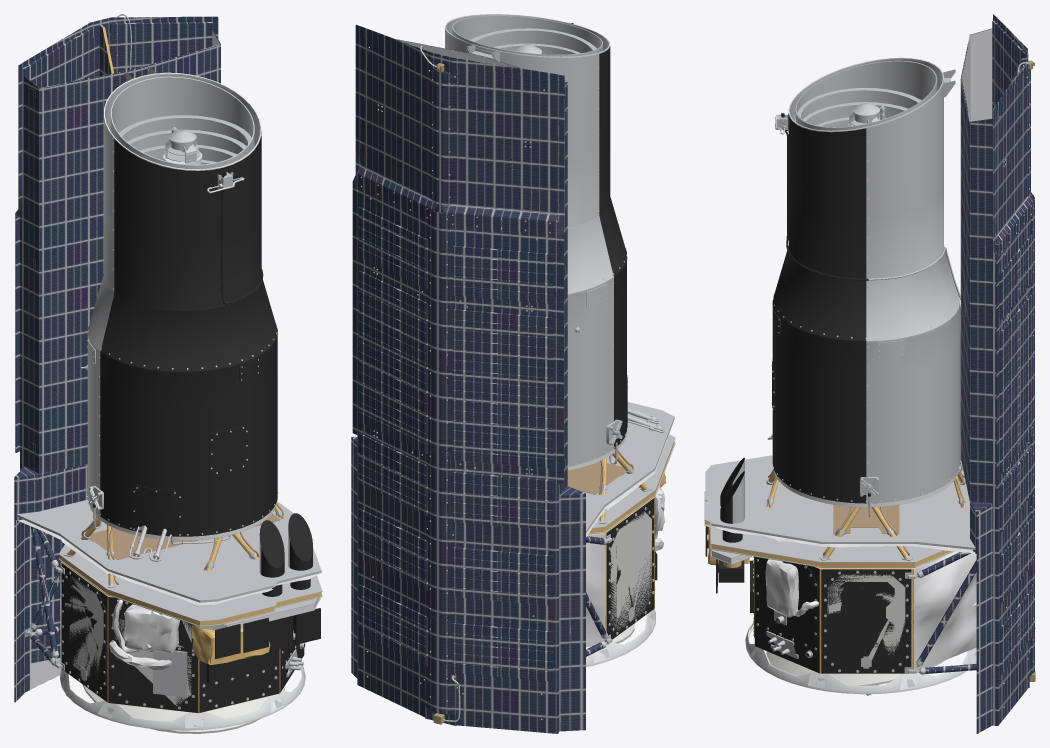
The model's file is spitzer.glb.
3 renders of one model, left to right at view 1: azimuth 30°, elevation 25°; view 2: azimuth 150°, elevation 25°; view 3: azimuth 270°, elevation 25°, orthographic. The views are drawn at different scales.
Visible parts, largest first — view 1: Fake; view 2: Fake; view 3: Fake.
Part boxes in pixels (<box>): Fake: <box>14,14,322,733</box>; Fake: <box>351,14,675,733</box>; Fake: <box>704,14,1035,733</box>.
Bounding box in the file's own units: 1.6 × 4.45 × 2.09.
11 materials, 1 textured.
